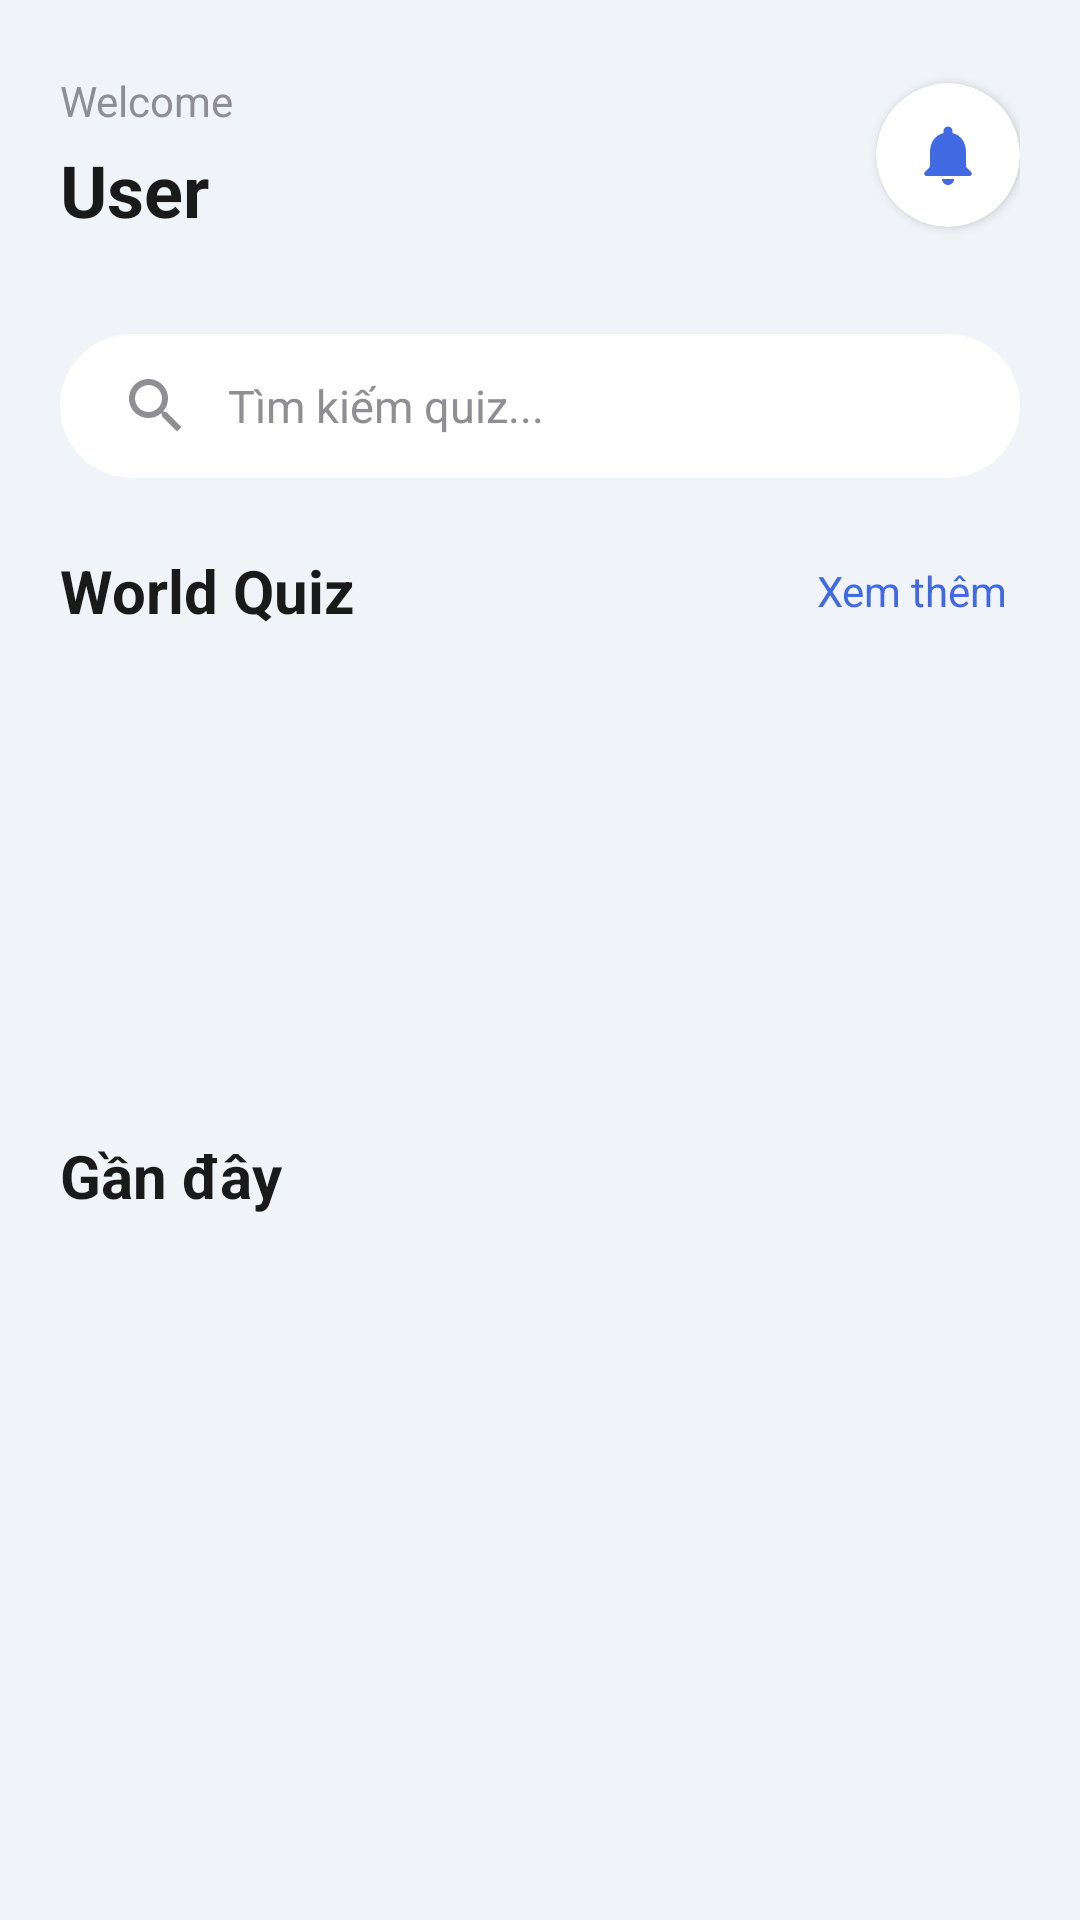

Icon click points for this 1080 × 1920 phone screenshot, format (x,y):
notification bell: (948,155)
search: (155,405)
